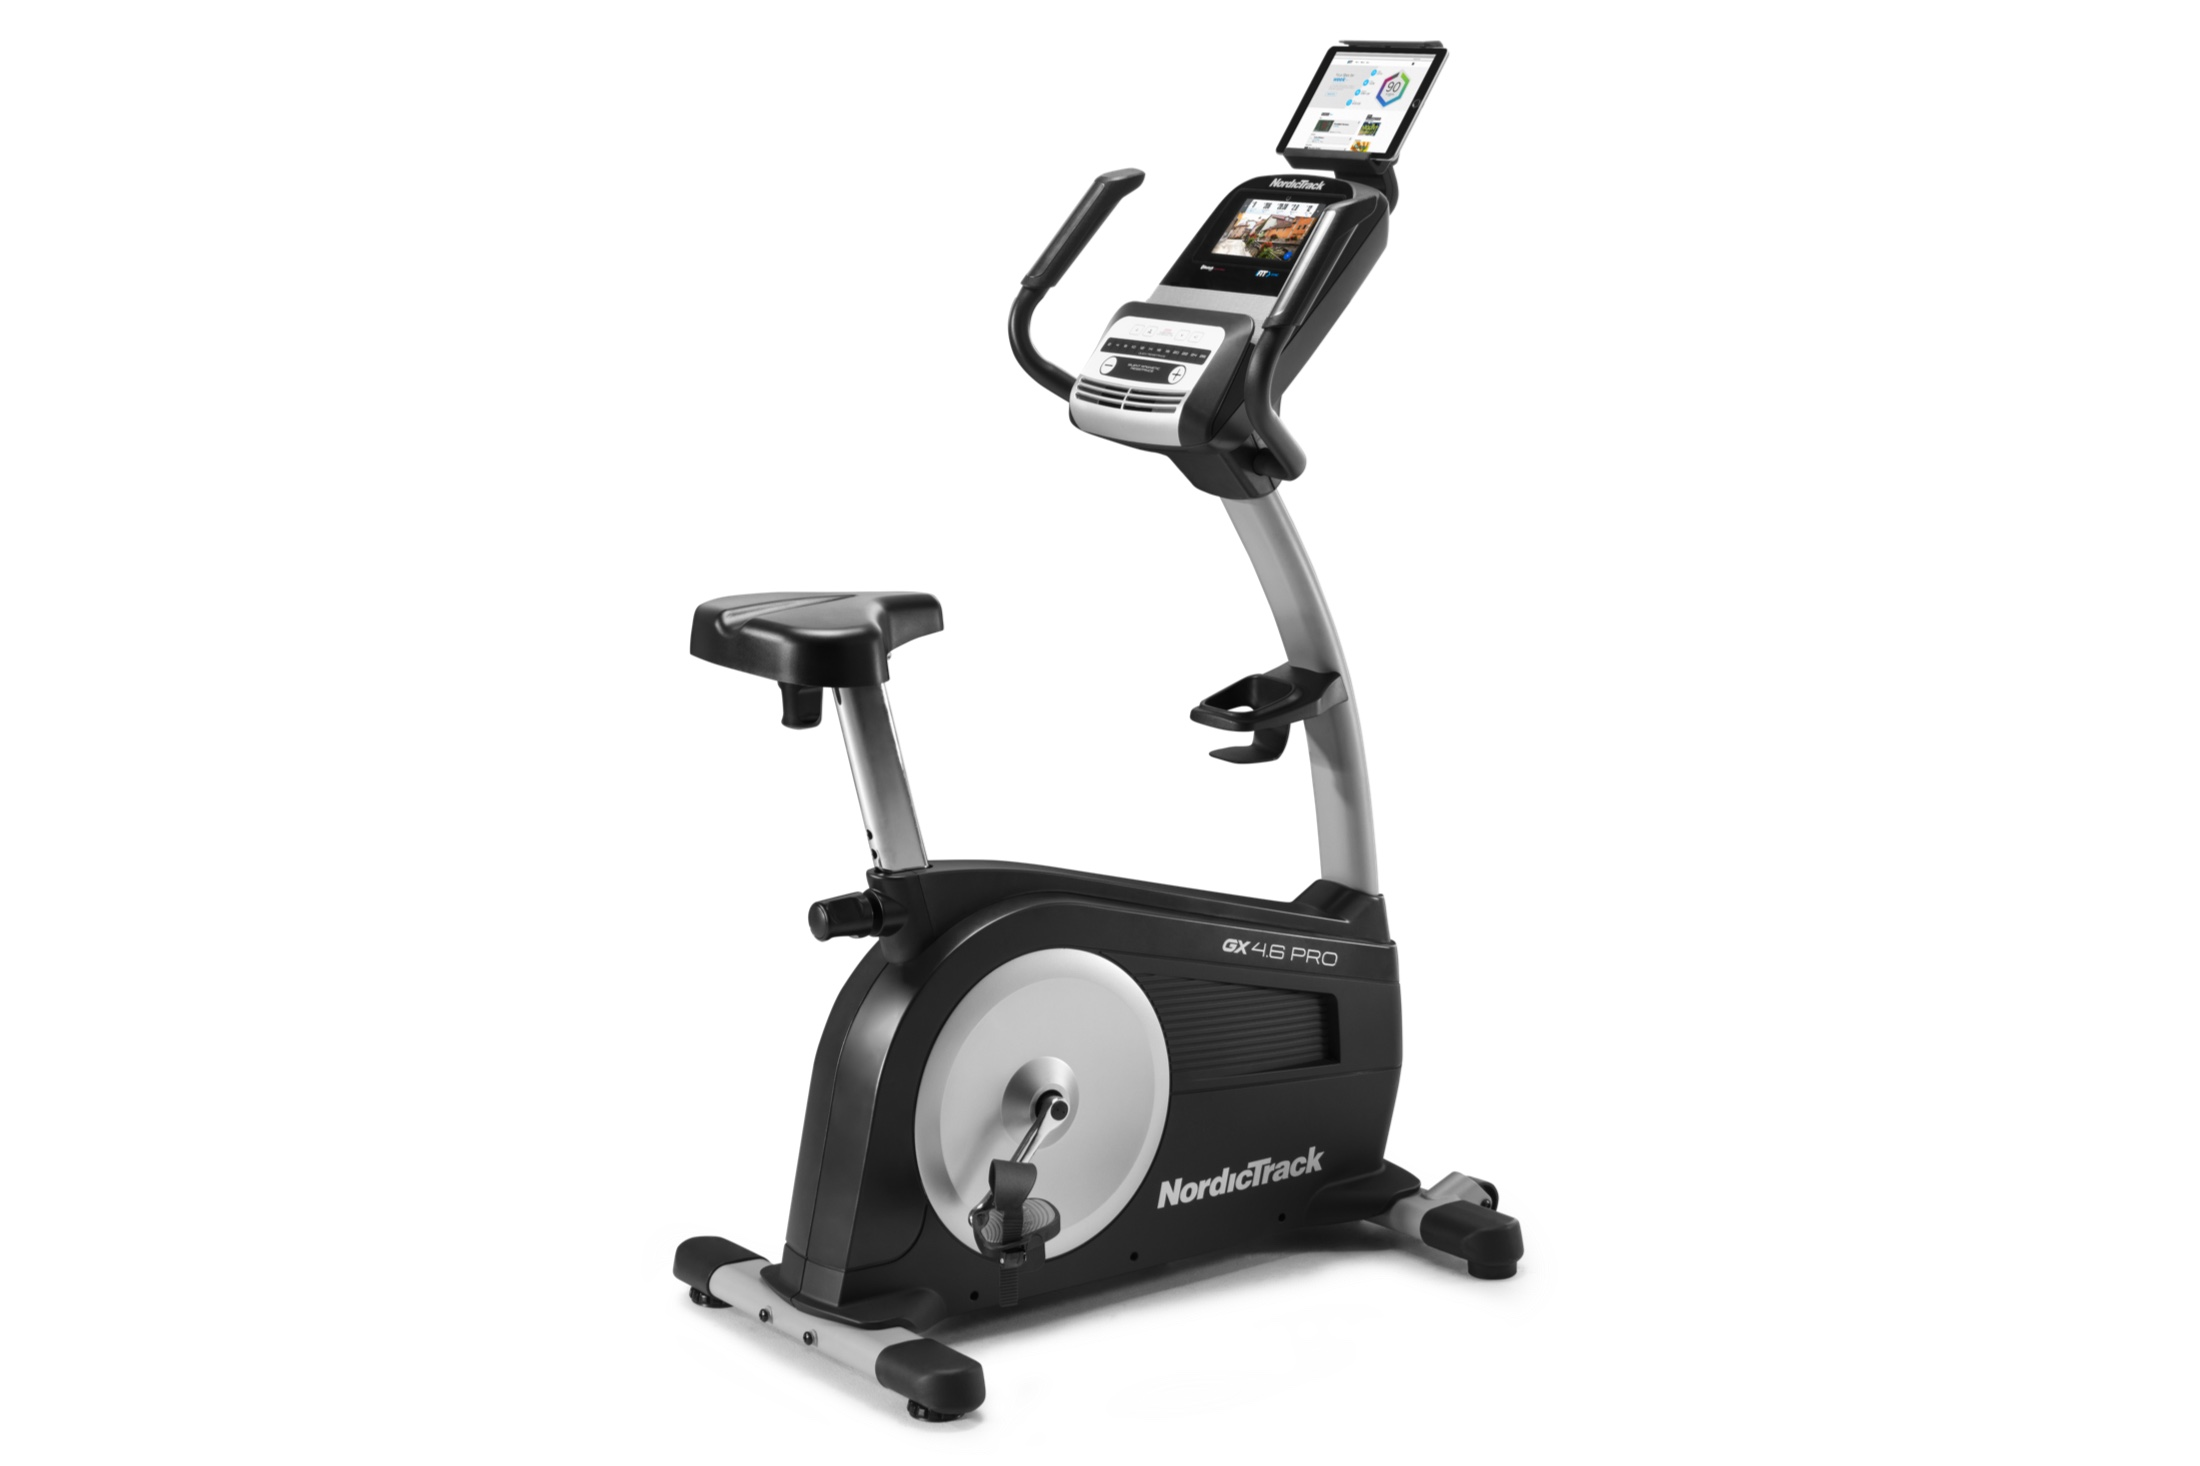gym_bike: (584, 10, 1560, 1440)
